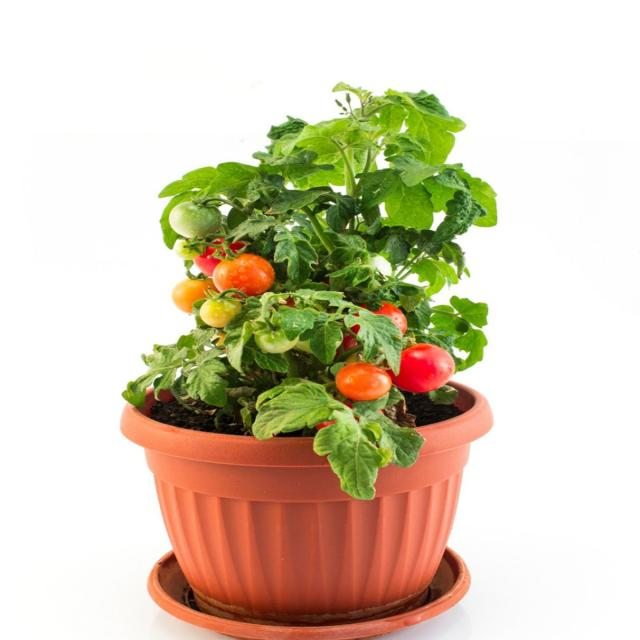level 2: (286, 316, 343, 354), (169, 202, 223, 240), (254, 315, 299, 354), (172, 234, 205, 260)
level 3: (201, 295, 250, 329)
level 4: (170, 276, 226, 316)
level 5: (213, 253, 276, 296), (336, 364, 390, 401)
level 6: (388, 346, 454, 394), (350, 302, 408, 347), (316, 403, 373, 445), (193, 236, 248, 277)
